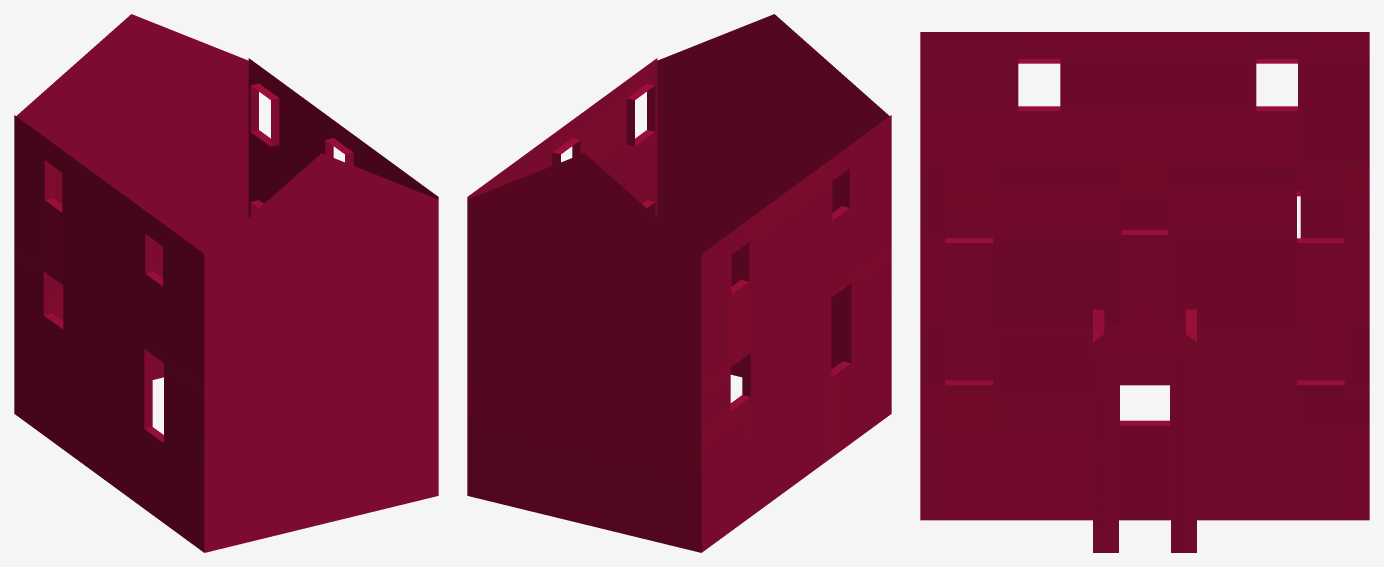
The model's file is SM_Bld_029_Masonry.glb.
3 renders of one model, left to right at view 1: azimuth 30°, elevation 25°; view 2: azimuth 150°, elevation 25°; view 3: azimuth 270°, elevation 25°, orthographic. The views are drawn at different scales.
Visible parts, largest first — view 1: SM_Bld_029_Masonry; view 2: SM_Bld_029_Masonry; view 3: SM_Bld_029_Masonry.
Boxes of the visible parts, left/top/right/bottom form: SM_Bld_029_Masonry: left=14, top=14, right=438, bottom=552; SM_Bld_029_Masonry: left=467, top=14, right=891, bottom=552; SM_Bld_029_Masonry: left=920, top=32, right=1369, bottom=552.
Size of the model in its own units: 7.61 by 9.28 by 8.61.
